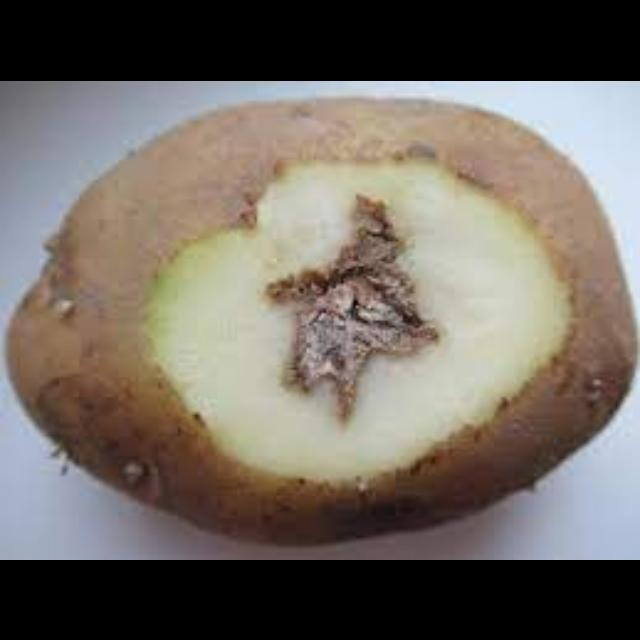Diseased-fungal potato: (11, 80, 640, 510)
